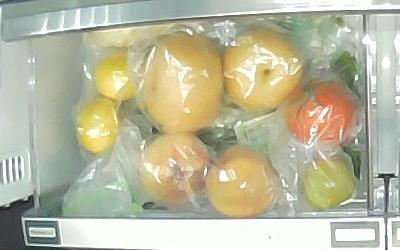peach_vinyl: (140, 136, 213, 207), (207, 145, 278, 217)
pear_vinyl: (141, 34, 224, 135), (223, 27, 304, 111)
tangerine_vinyl: (75, 95, 121, 155), (93, 52, 142, 102)
tomato_vinyl: (284, 81, 356, 147), (301, 155, 357, 210)
